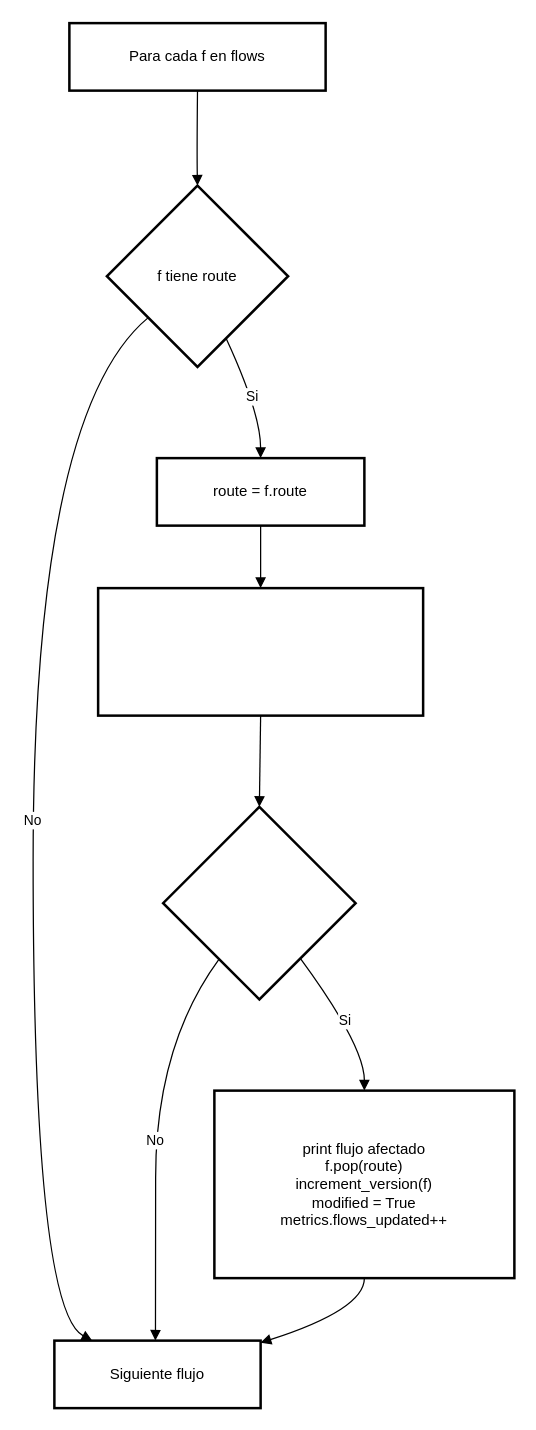
This 536x1430 diagram has some shape labels left out. The shapes that lost their labels are listed below. From the top down, each one's centre as x and y in pixels, then its label:
At (260,651): "any node en inactive_nodes_set for node en route".
At (258,902): "Ruta afectada".
